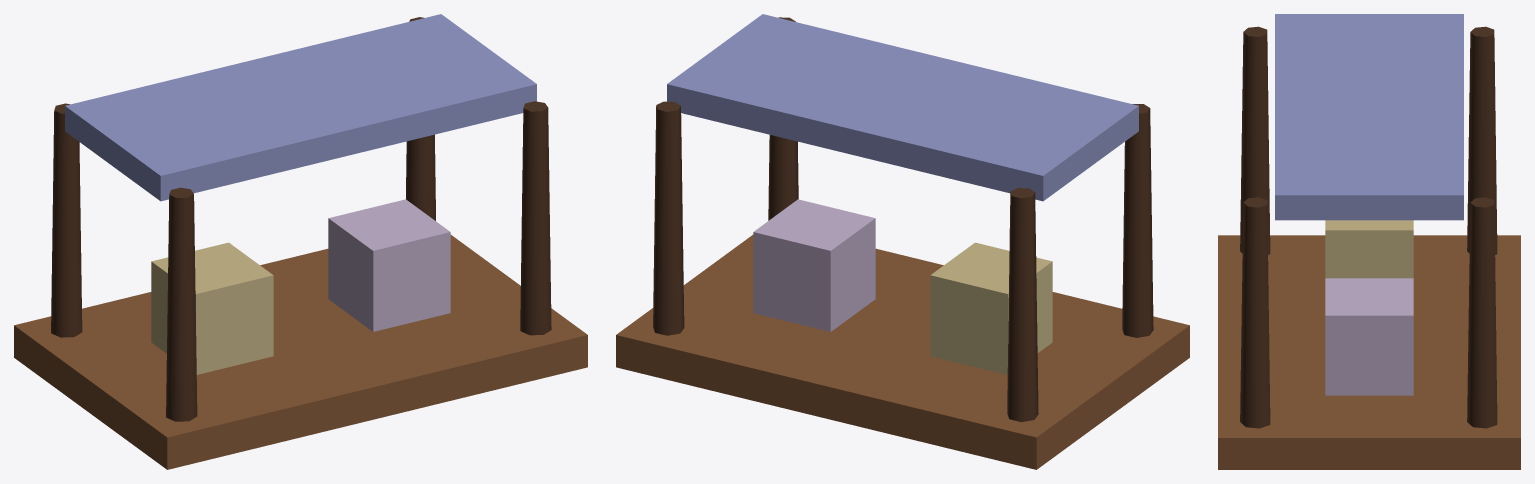
File: delivery_cart.glb
3 renders of one model, left to right at view 1: azimuth 30°, elevation 25°; view 2: azimuth 150°, elevation 25°; view 3: azimuth 270°, elevation 25°, orthographic.
Parts seen in each view (by area): view 1: platform, top, detail_b, detail_a, post_3, post_2, post_0, post_1; view 2: platform, top, detail_b, detail_a, post_0, post_1, post_2, post_3; view 3: platform, top, detail_b, post_1, post_3, detail_a, post_0, post_2.
Part boxes in pixels (x1,y1,x2,y2): platform: (14,235,587,469); top: (65,14,536,201); detail_b: (328,199,450,331); detail_a: (151,242,273,374); post_3: (520,101,551,335); post_2: (166,187,197,421); post_0: (51,103,82,337); post_1: (406,17,435,220); platform: (616,235,1189,469); top: (667,14,1138,201); detail_b: (753,199,875,331); detail_a: (930,242,1052,374); post_0: (1007,188,1038,422); post_1: (653,101,684,335); post_2: (1122,104,1153,337); post_3: (768,17,798,220); platform: (1218,235,1520,469); top: (1275,14,1463,220); detail_b: (1325,278,1413,395); post_1: (1467,197,1497,428); post_3: (1240,197,1270,428); detail_a: (1325,220,1413,278); post_0: (1467,26,1497,254); post_2: (1240,26,1270,254).
Size of what is drawn, in the model's own units: 3.8 by 2.31 by 2.4.
